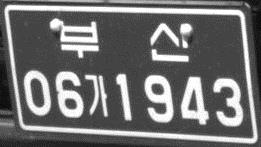0: (22, 68, 52, 117)
1: (113, 71, 136, 122)
3: (211, 75, 245, 128)
4: (180, 74, 210, 126)
6: (53, 69, 85, 119)
9: (142, 73, 175, 123)
가: (83, 72, 110, 119)
부산_D: (55, 18, 193, 64)
